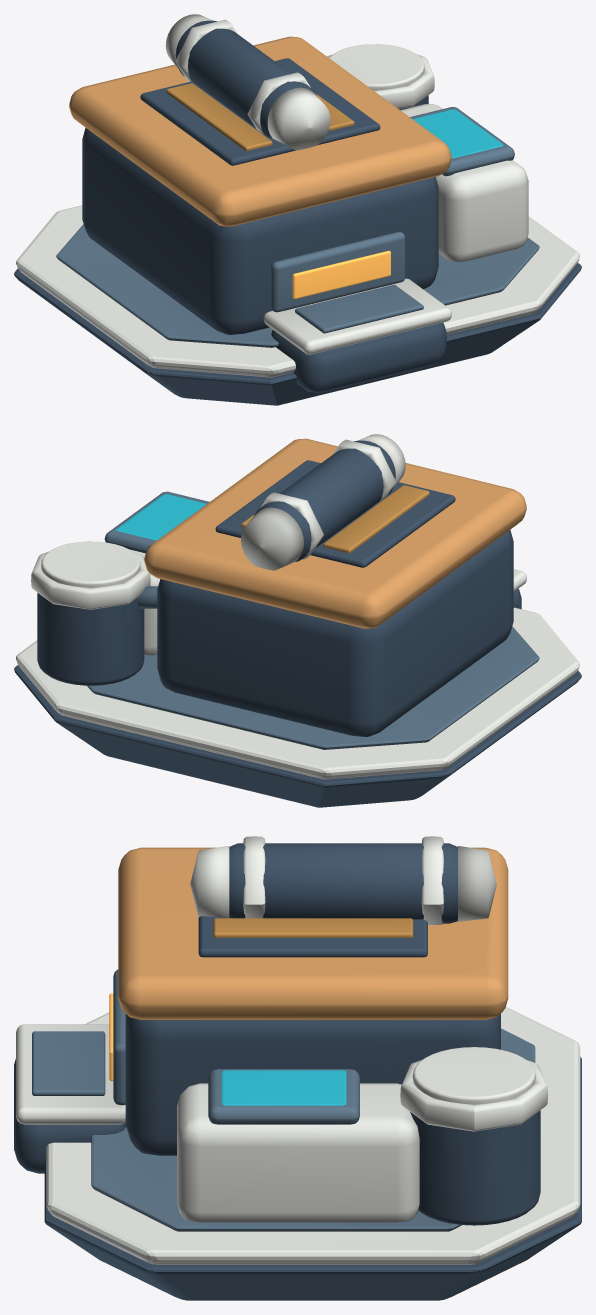
File: interstellar_refinery_lv2.glb
3 renders of one model, top to bottom at view 1: azimuth 30°, elevation 25°; view 2: azimuth 150°, elevation 25°; view 3: azimuth 270°, elevation 25°, orthographic. The views are drawn at different scales.
Visible parts, largest first — view 1: Structure; view 2: Structure; view 3: Structure.
Boxes of the visible parts, bbox=[...] form: Structure: bbox=[14, 14, 581, 405]; Structure: bbox=[14, 434, 581, 807]; Structure: bbox=[14, 836, 581, 1300].
Bounding box in the file's own units: 6.38 × 3.76 × 5.82.
